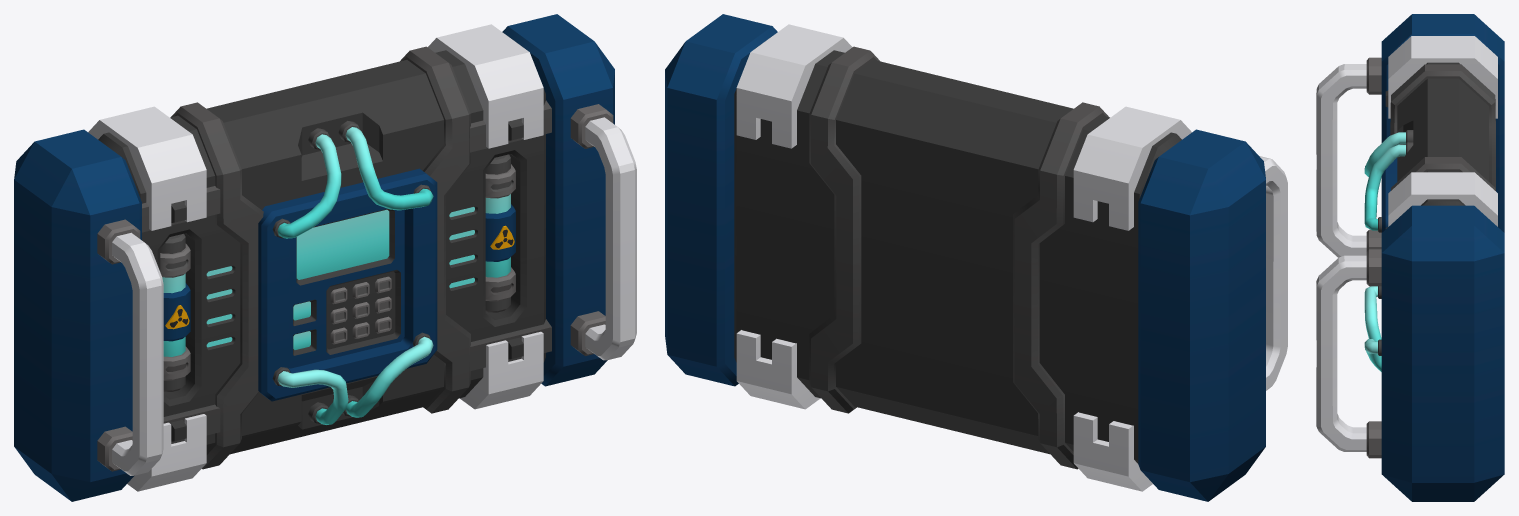
File: Bomb.fbx
3 views of the same model, side by side, from view 1: azimuth 30°, elevation 25°; view 2: azimuth 150°, elevation 25°; view 3: azimuth 270°, elevation 25° (orthographic). The views are drawn at different scales.
Visible parts, largest first — view 1: Bomb; view 2: Bomb; view 3: Bomb.
Part boxes in pixels (<box>): Bomb: <box>14,14,636,501</box>; Bomb: <box>665,14,1287,501</box>; Bomb: <box>1316,14,1504,501</box>.
Bounding box in the file's own units: 51.27 × 30.15 × 17.85.
